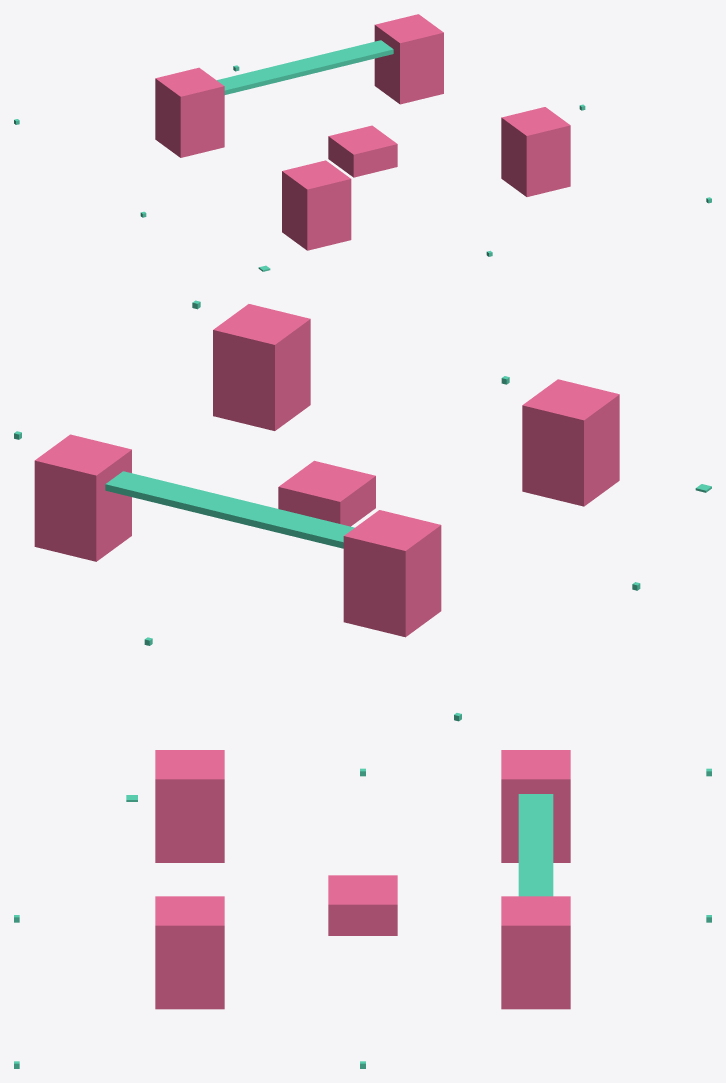
The model's file is cubes.obj.
3 views of the same model, one above another, from view 1: azimuth 30°, elevation 25°; view 2: azimuth 150°, elevation 25°; view 3: azimuth 270°, elevation 25° (orthographic). The views are drawn at different scales.
Parts seen in each view (by area): view 1: tower0, tower2, tower3, tower1, bridge, tower4; view 2: tower0, tower2, tower3, tower1, bridge, tower4; view 3: tower1, tower3, tower2, tower0, tower4, bridge.
Boxes of the visible parts, x1,y1,x2,y2 form: tower0: [155, 67, 224, 157]; tower2: [282, 160, 351, 250]; tower3: [501, 107, 570, 196]; tower1: [374, 14, 443, 104]; bridge: [217, 40, 393, 94]; tower4: [328, 125, 397, 177]; tower0: [343, 510, 441, 637]; tower2: [522, 379, 619, 506]; tower3: [213, 304, 310, 430]; tower1: [34, 434, 131, 561]; bridge: [105, 471, 354, 548]; tower4: [278, 460, 375, 526]; tower1: [501, 896, 570, 1009]; tower3: [155, 896, 224, 1009]; tower2: [155, 750, 224, 862]; tower0: [501, 750, 570, 862]; tower4: [328, 875, 397, 935]; bridge: [518, 794, 553, 896].
Bounding box in the file's own units: 60.5 × 8 × 60.5.
